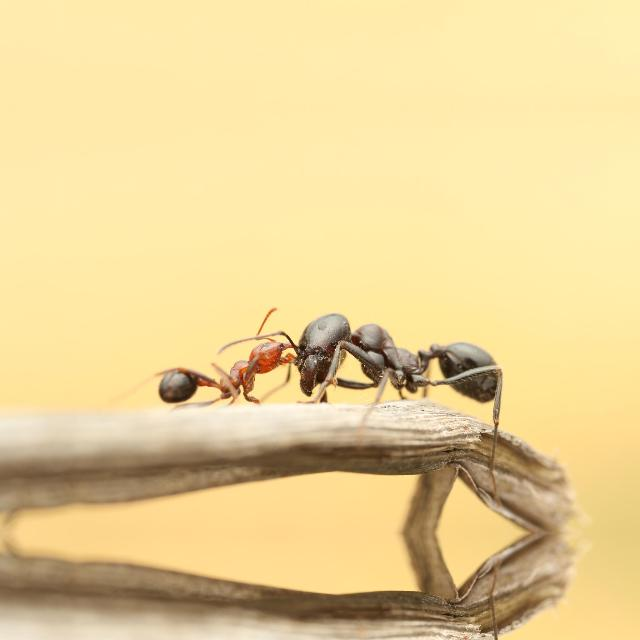Messor: (287, 288, 513, 434), (168, 318, 298, 420)
